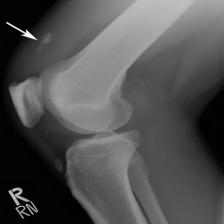avulsion-fracture: (2, 2, 224, 224)
